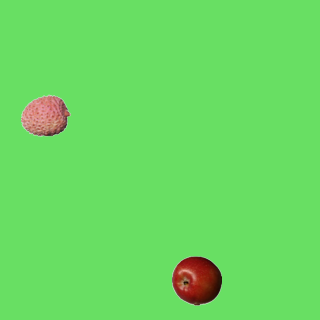Apple Braeburn: (171, 255, 221, 305)
Lychee: (20, 90, 70, 140)
